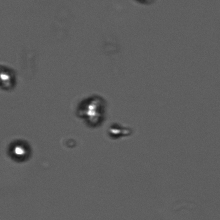Living Cell: (75, 94, 107, 128), (8, 140, 33, 162), (104, 122, 128, 138), (1, 65, 15, 90)
